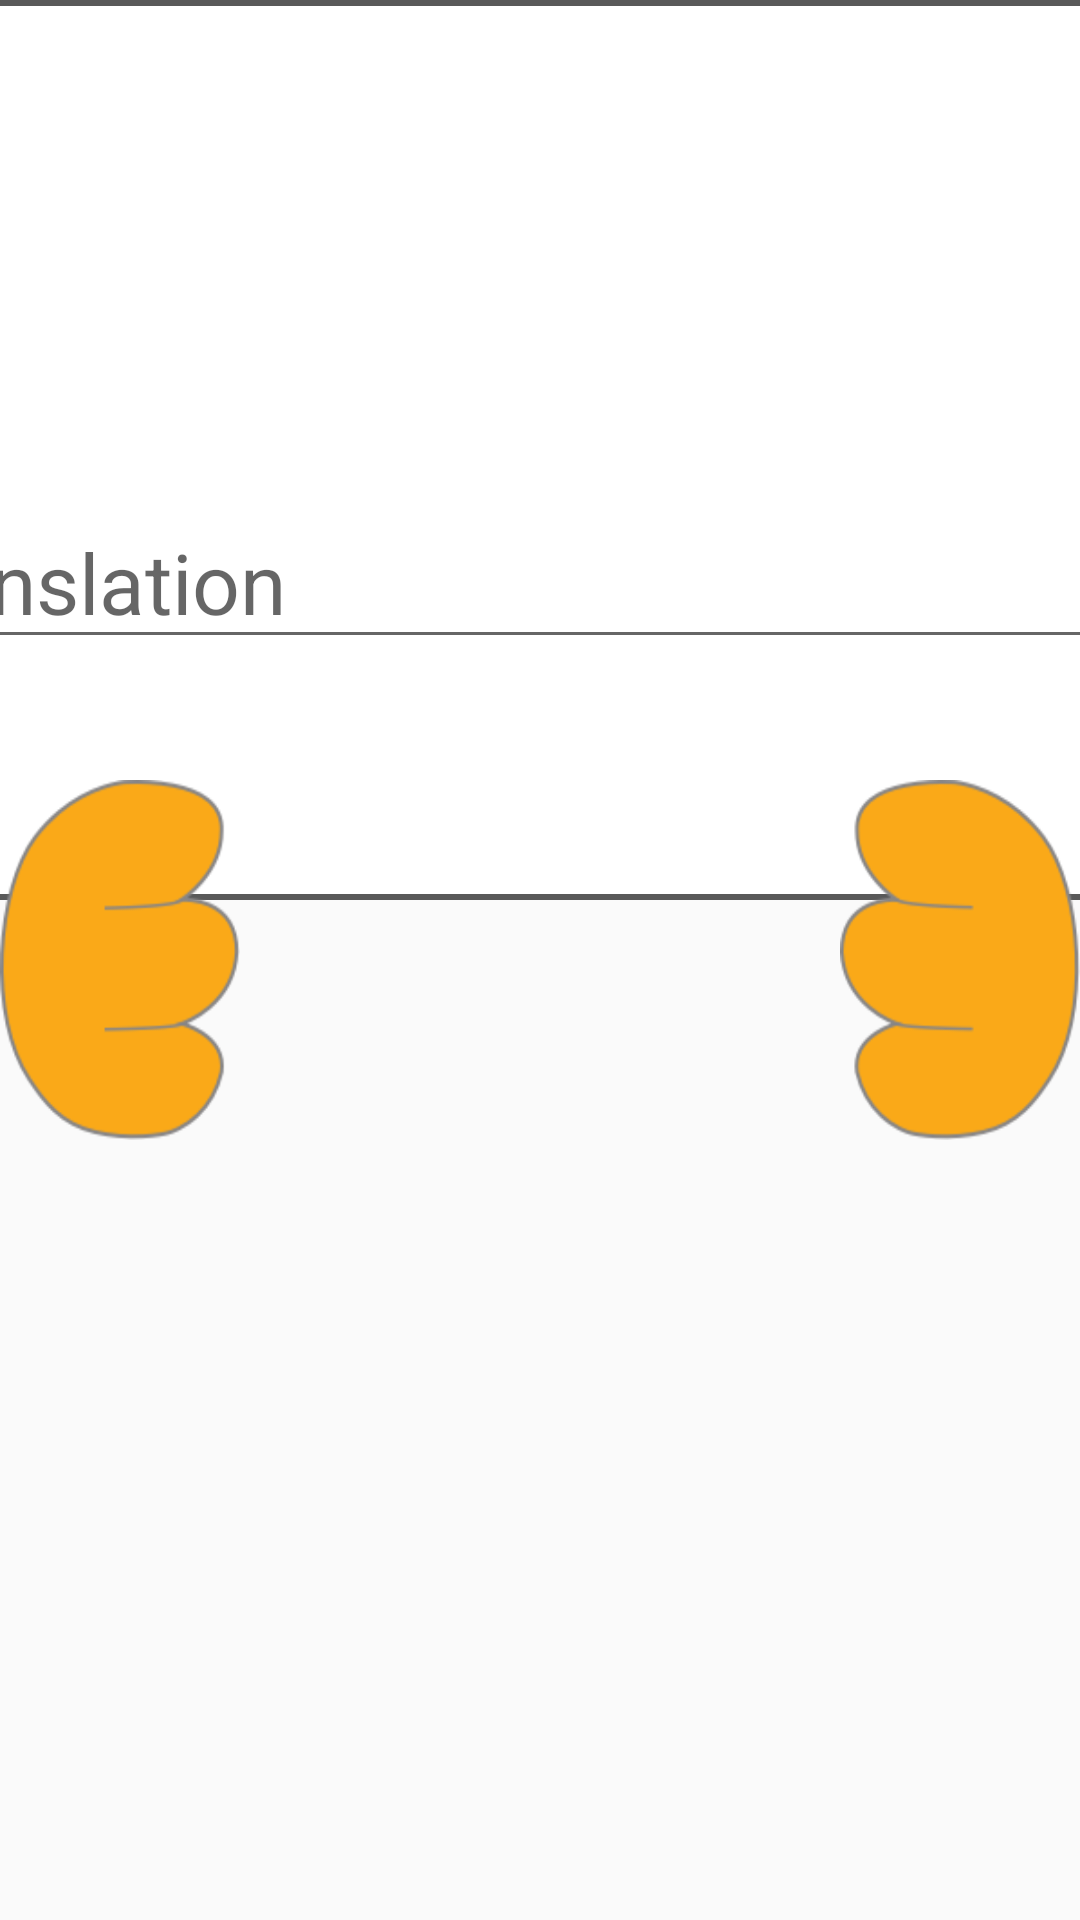

Where icons sit on this 1080px x 1920px app screen, as (left=x1, top=y1, right=x2, bottom=y2):
left hand: (left=0, top=780, right=240, bottom=1140)
right hand: (left=840, top=780, right=1080, bottom=1140)
